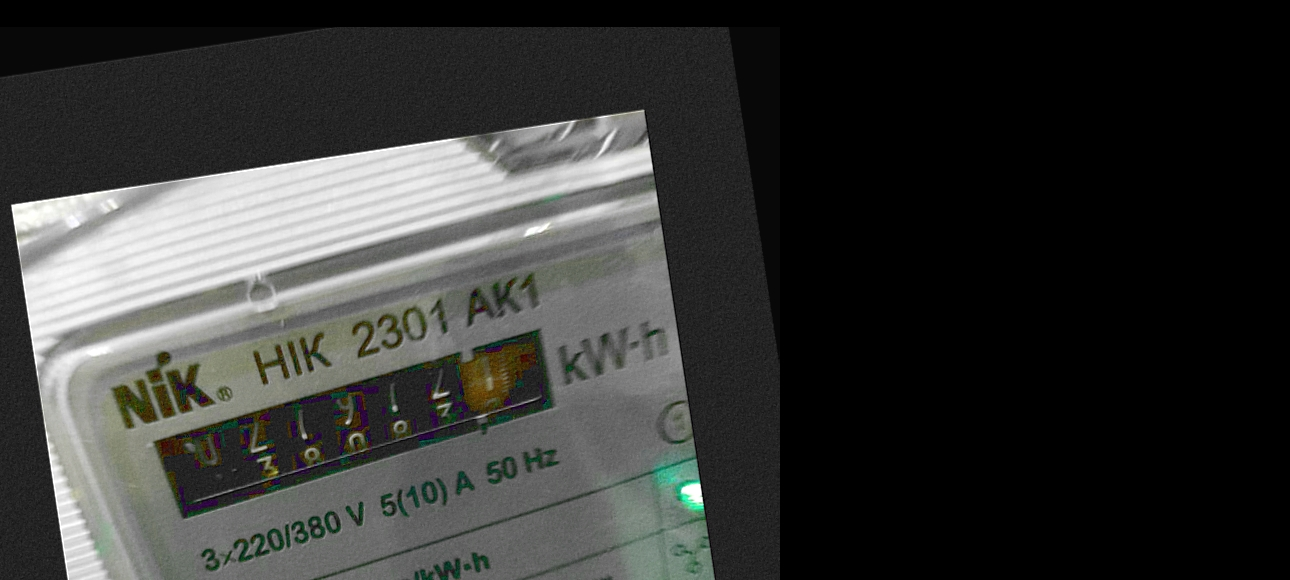0: (190, 430, 223, 470)
1: (475, 351, 503, 396)
2: (237, 414, 272, 456), (422, 362, 455, 402)
7: (376, 374, 408, 418), (286, 404, 315, 444)
9: (332, 390, 363, 428)
screen: (128, 314, 598, 534)
